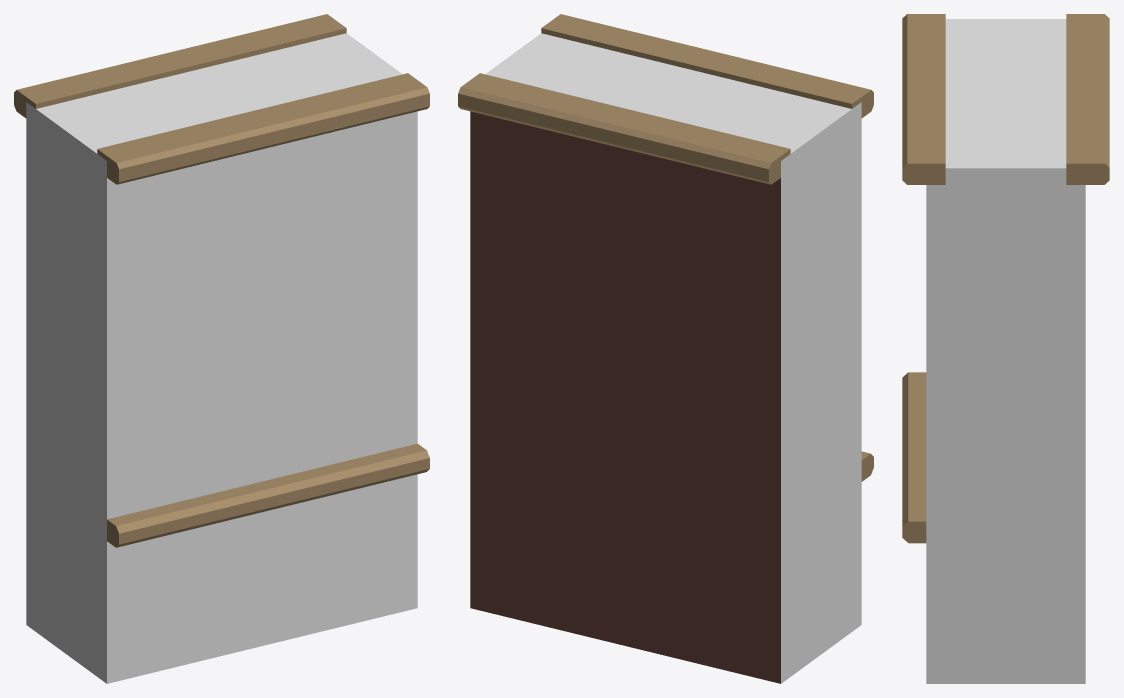
Rendered from wall_section_01.fbx.
The picture shows the model from 3 angles, left to right: view 1: azimuth 30°, elevation 25°; view 2: azimuth 150°, elevation 25°; view 3: azimuth 270°, elevation 25°; orthographic projection.
Visible parts, largest first — view 1: polySurface201, pCube606; view 2: polySurface202, polySurface201, pCube606; view 3: polySurface201, pCube606.
Boxes of the visible parts, bbox=[...] form: polySurface201: bbox=[26, 33, 417, 683]; pCube606: bbox=[14, 14, 429, 547]; polySurface202: bbox=[470, 111, 780, 683]; polySurface201: bbox=[485, 33, 861, 683]; pCube606: bbox=[458, 14, 873, 481]; polySurface201: bbox=[926, 19, 1085, 683]; pCube606: bbox=[902, 14, 1109, 543].
Bounding box in the file's own units: 10 × 16.23 × 5.86.
